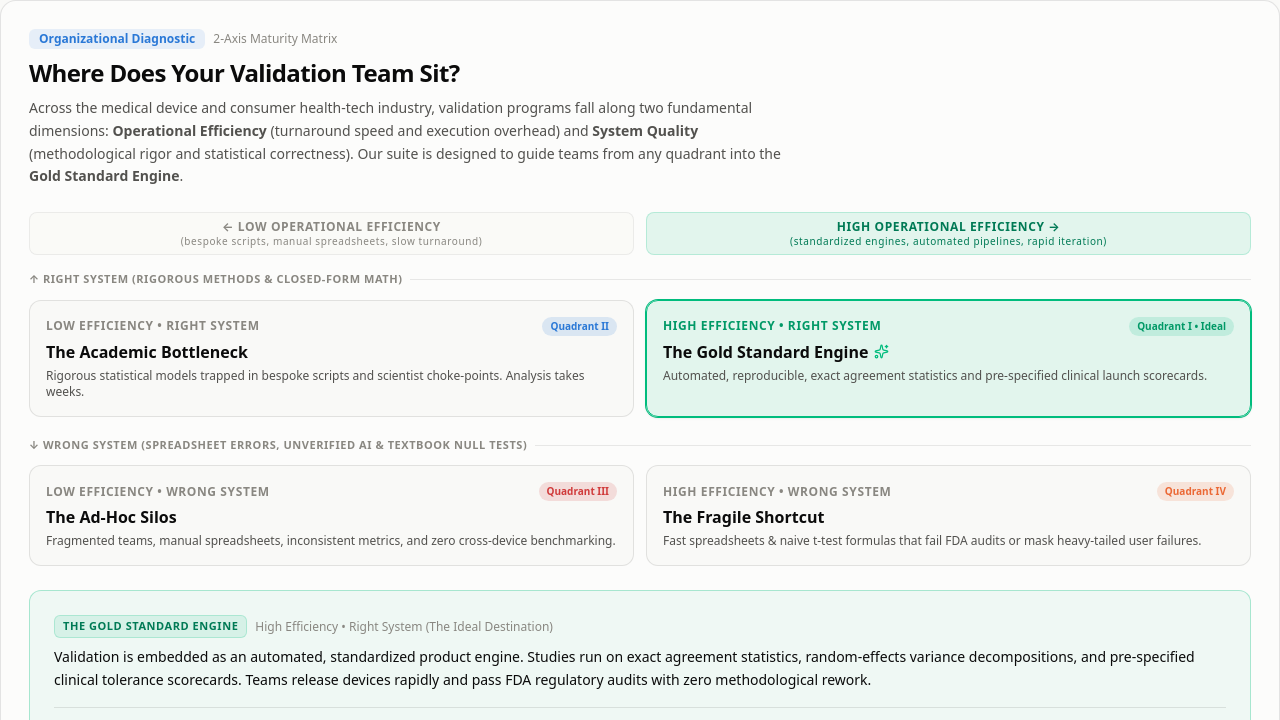
Scenario: ValidationMaturityMatrix › switches between quadrants and updates deep dive content
This screenshot has width=1280, height=720.
Expected: the text "High Efficiency • Right System (The Ideal Destination)" is shown, [255, 619, 553, 635]
Click Academic Bottleneck
Click the button "The Academic Bottleneck" at (153, 326), box [29, 300, 634, 417]
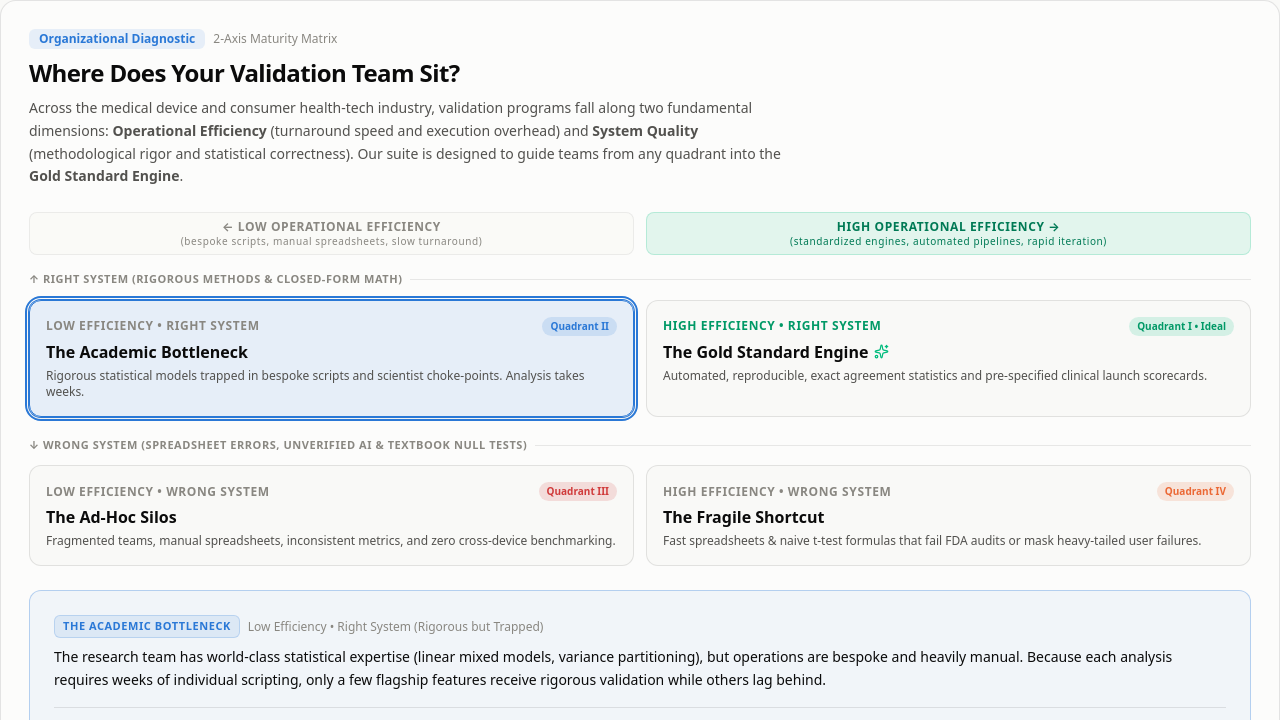
Now the text "Low Efficiency • Right System (Rigorous but Trapped)" is shown, box [248, 619, 543, 635]
Click Fragile Shortcut
Click the button "The Fragile Shortcut" at (777, 491), box [646, 465, 1251, 566]
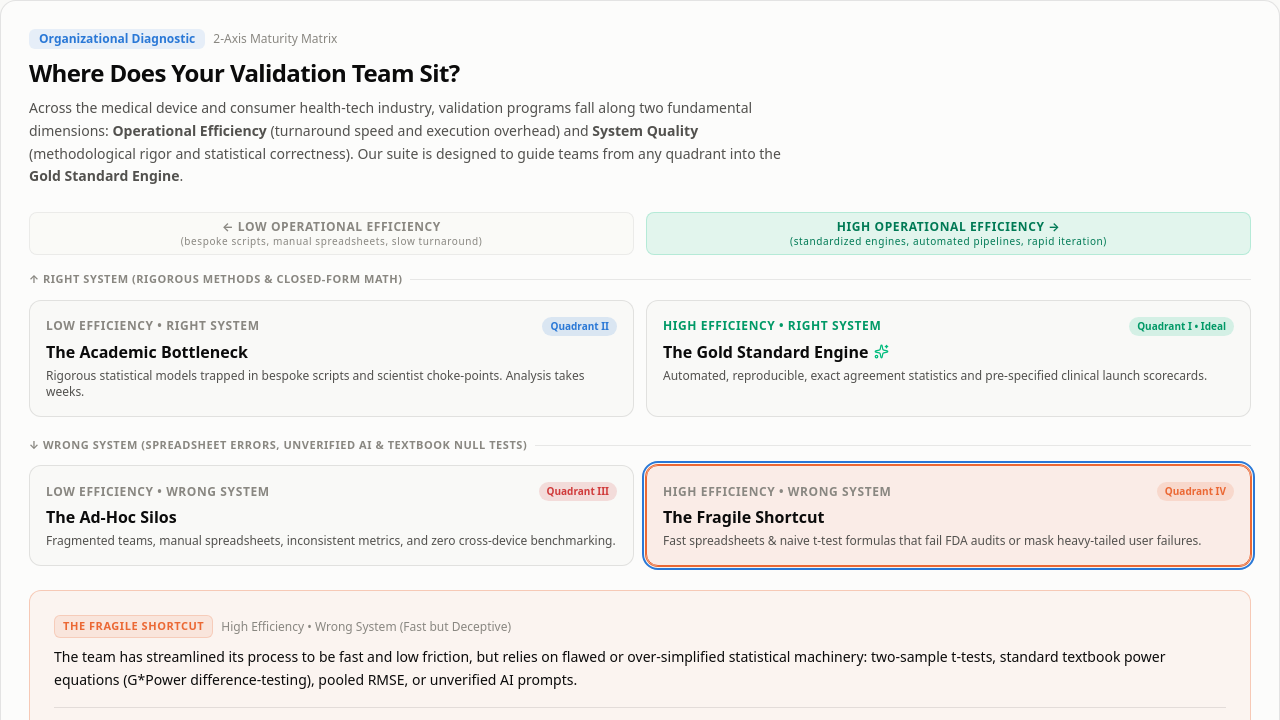
Now the text "High Efficiency • Wrong System (Fast but Deceptive)" is shown, box [221, 619, 511, 635]
Click Ad-Hoc Silos
Click the button "The Ad-Hoc Silos" at (158, 491), box [29, 465, 634, 566]
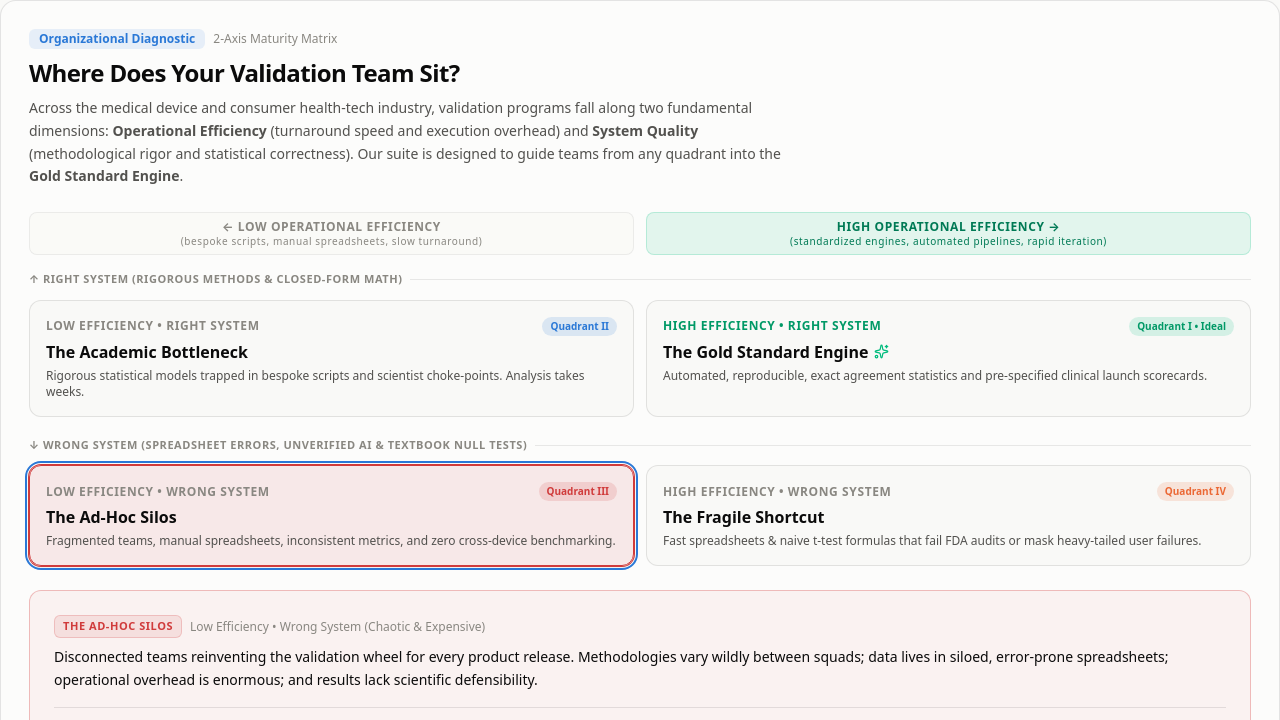
Now the text "Low Efficiency • Wrong System (Chaotic & Expensive)" is shown, box [190, 619, 485, 635]
